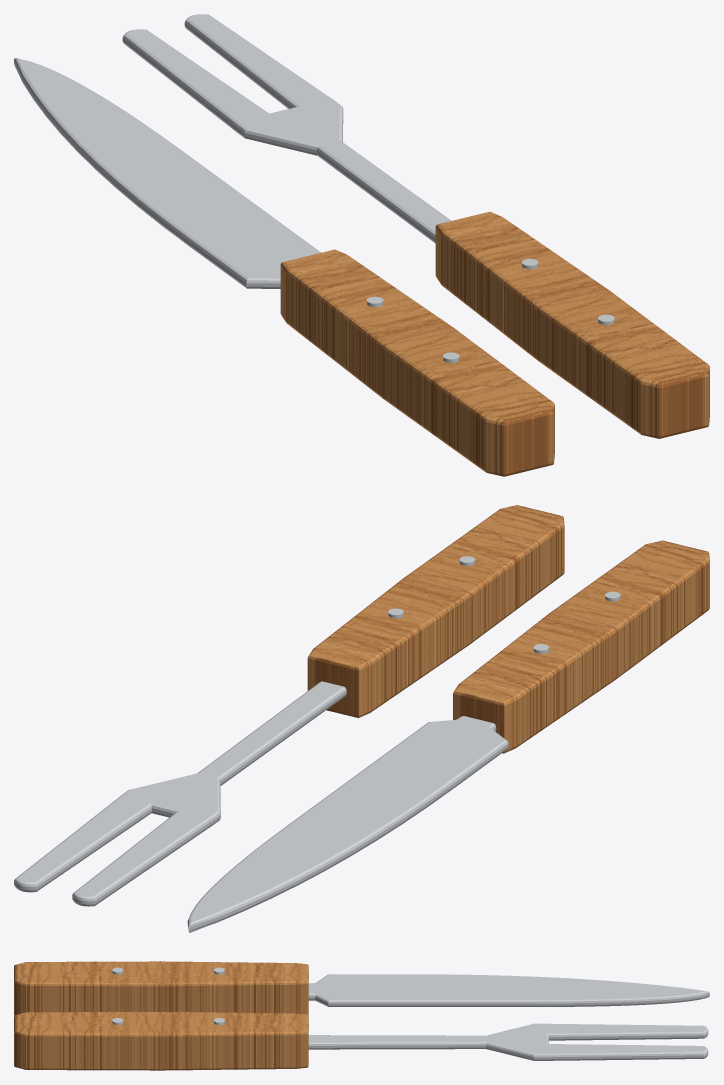
File: CUB-34.glb
The picture shows the model from 3 angles, top to bottom: view 1: azimuth 30°, elevation 25°; view 2: azimuth 150°, elevation 25°; view 3: azimuth 270°, elevation 25°; orthographic projection. The views are drawn at different scales.
Bounding box in the file's own units: 0.0756 × 0.017 × 0.2722.
Materials: 8 (2 with a texture image).
